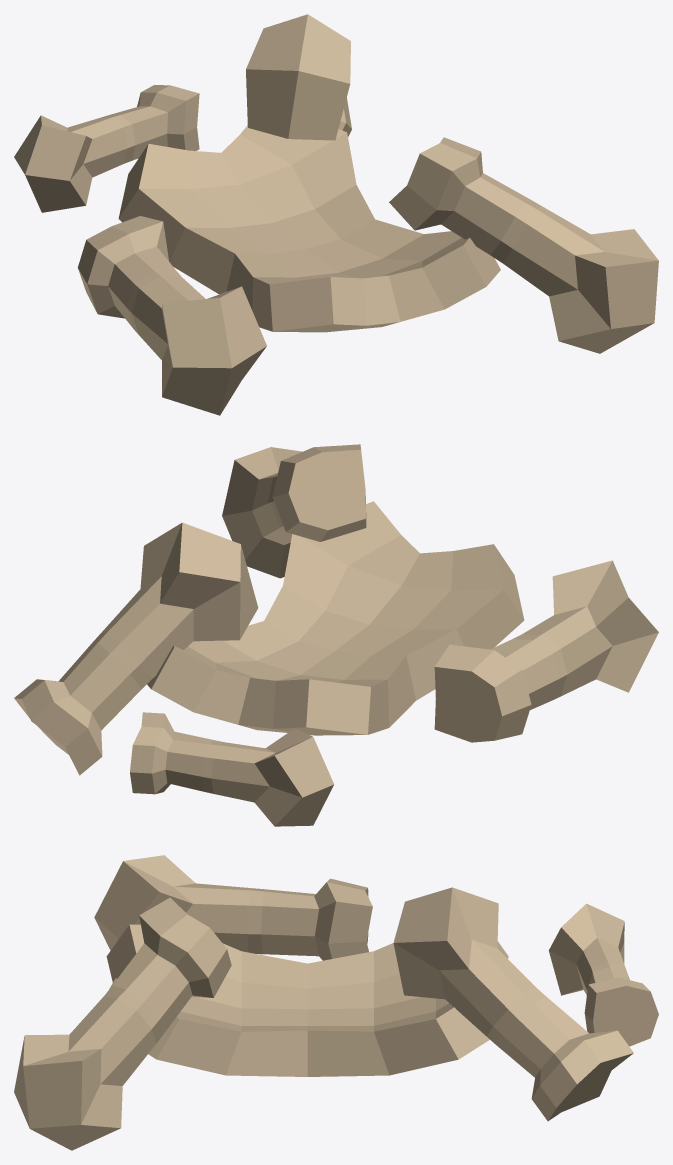
File: Bones2.glb
3 renders of one model, top to bottom at view 1: azimuth 30°, elevation 25°; view 2: azimuth 150°, elevation 25°; view 3: azimuth 270°, elevation 25°, orthographic. The views are drawn at different scales.
Visible parts, largest first — view 1: BonePile2; view 2: BonePile2; view 3: BonePile2.
Part boxes in pixels (x1,y1,x2,y2): BonePile2: (14,14,658,415); BonePile2: (14,444,658,826); BonePile2: (14,855,658,1150).
Bounding box in the file's own units: 1.47 × 0.6859 × 1.85.
